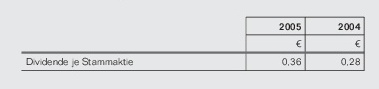table: (0, 0, 379, 89)
